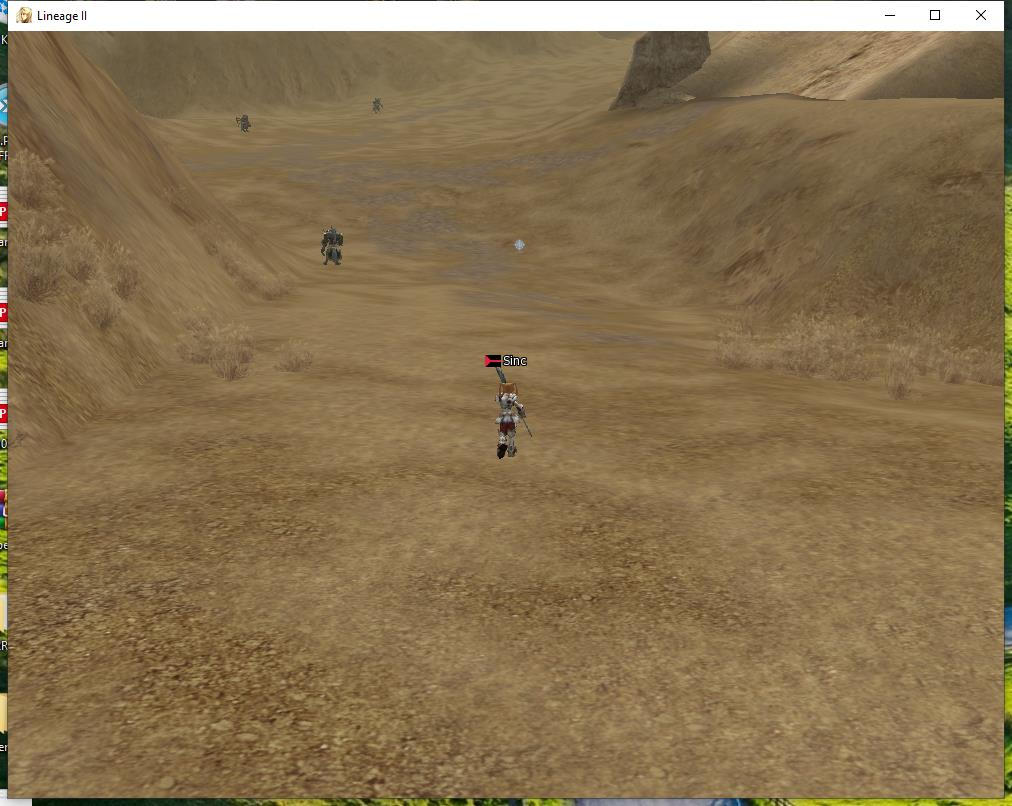monster: (307, 218, 348, 272), (232, 102, 255, 137), (374, 90, 389, 121)
